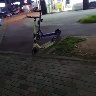beam: (32, 9, 64, 41)
gcooter: (25, 14, 58, 56)
